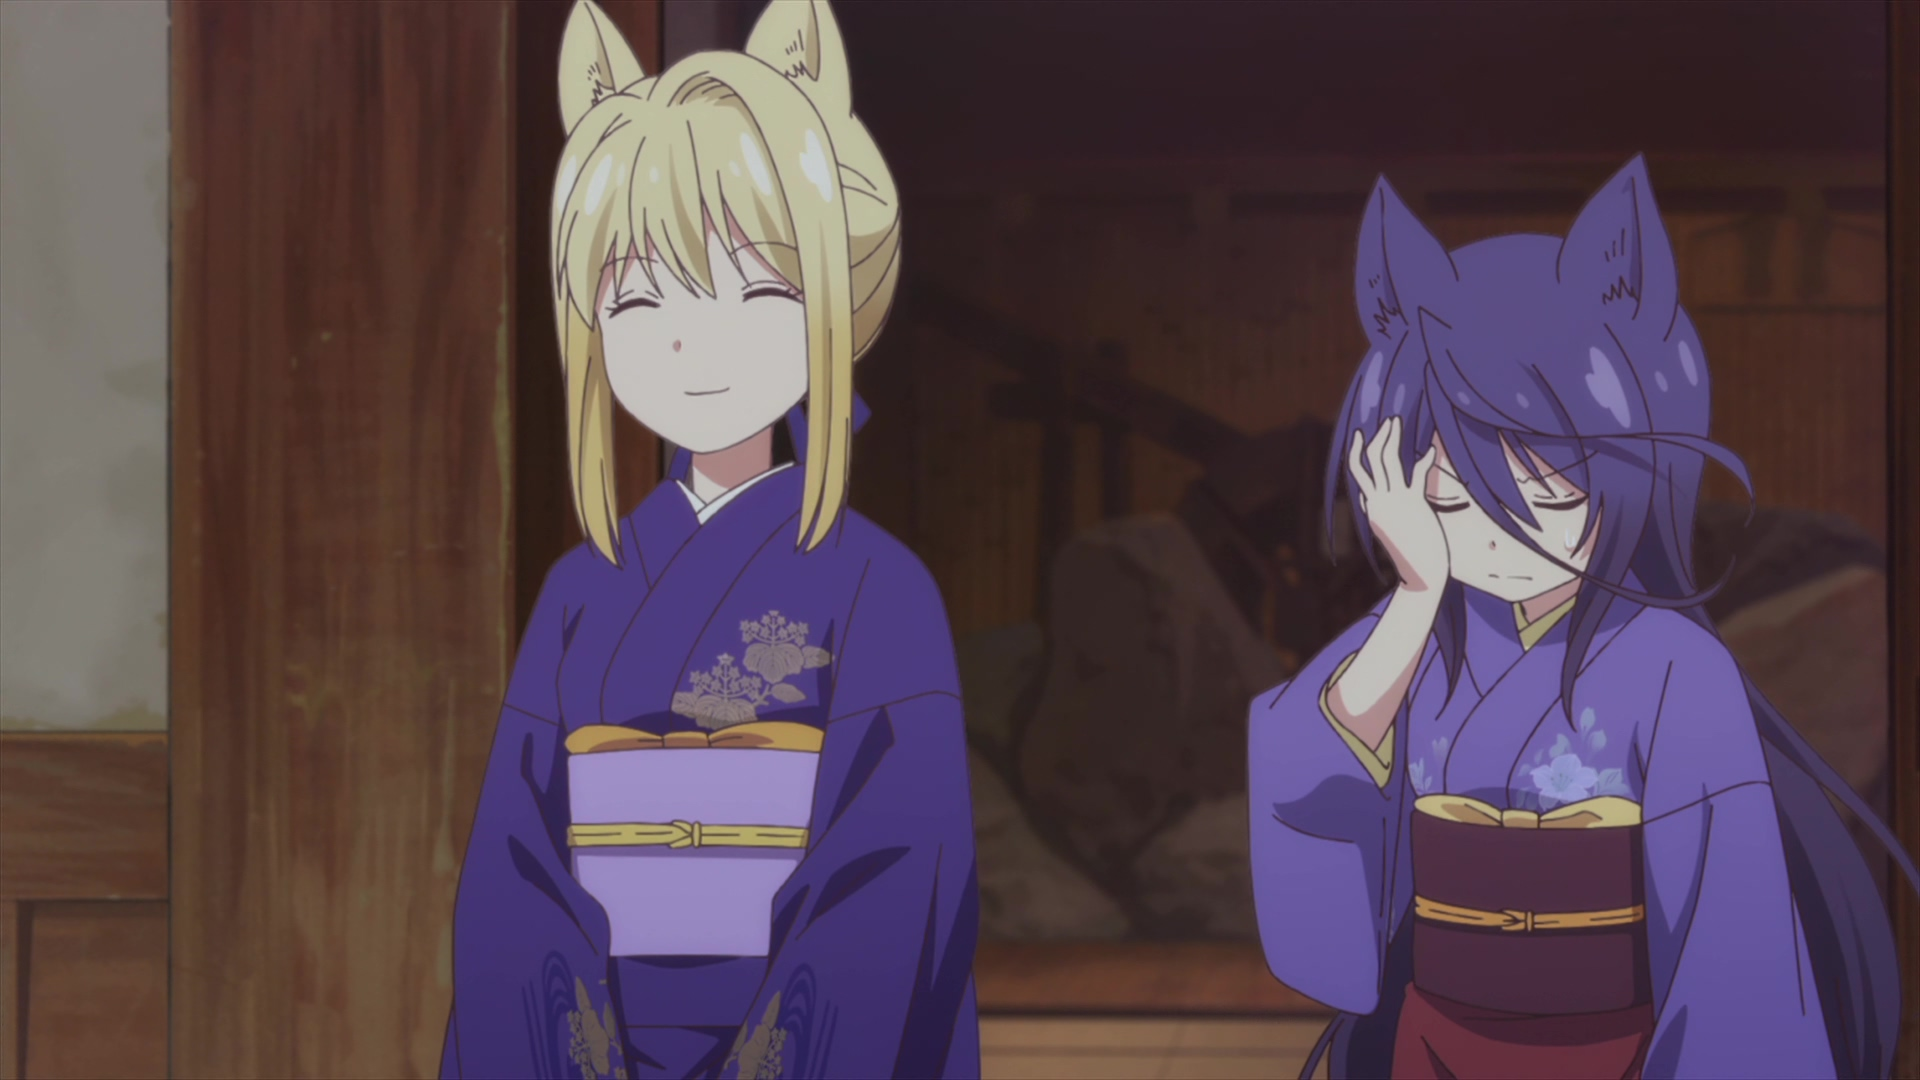桐: (443, 1, 978, 1080)
皋: (1245, 157, 1920, 1080)
